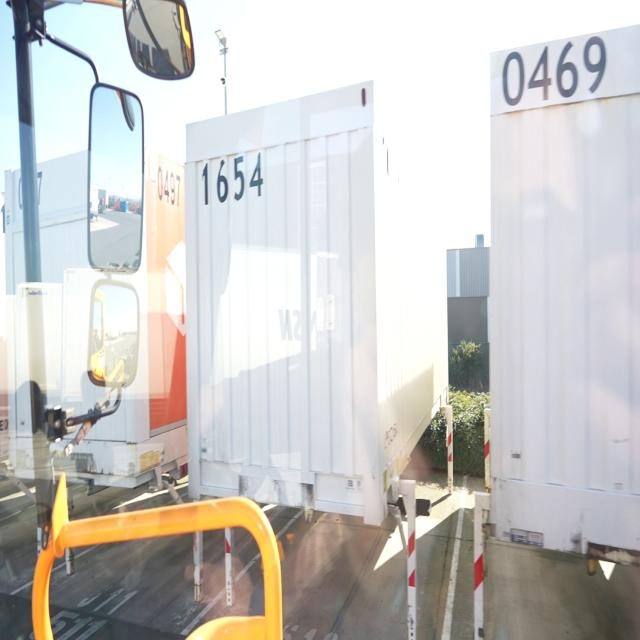Code: (501, 33, 605, 112), (200, 149, 270, 210), (153, 159, 184, 214)
